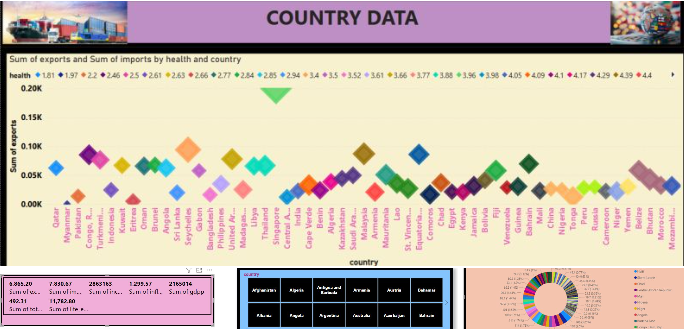

The page's visual inventory and layout, read from the dashboard file:
{"tool":"powerbi","page":{"name":"Page 1","canvas":[1280,720],"ordinal":0},"visuals":[{"type":"textbox","box":[0,1.4,1270.7,94.7],"z":0},{"type":"scatterChart","fields":{"Series":["Country-data.health"],"Y":["Sum(Country-data.exports)"],"Size":["Sum(Country-data.imports)"],"X":["Country-data.country"]},"box":[0,95.4,1280.3,432.9],"z":1000},{"type":"actionButton","box":[0,0,100,40],"z":3000},{"type":"donutChart","fields":{"Y":["Sum(Country-data.child_mort)"],"Category":["Country-data.country"]},"box":[0,509.9,376.6,210.3],"z":5000},{"type":"slicer","fields":{"Values":["Country-data.country"]},"box":[376.6,509.9,404.8,210.3],"z":7000},{"type":"image","box":[0,0,240.9,95.4],"z":8000},{"type":"image","box":[1125,0,145.5,95.4],"z":9000},{"type":"multiRowCard","fields":{"Values":["Sum(Country-data.exports)","Sum(Country-data.imports)","Sum(Country-data.income)","Sum(Country-data.inflation)","Sum(Country-data.gdpp)","Sum(Country-data.total_fer)","Sum(Country-data.life_expec)"]},"box":[781.4,519.7,498.9,200.5],"z":10000}]}

Visuals, with their boxes on the page's 1280x720 design canvas (x1, y1, x2, y2). These are canvas units, not pixel positions in the 684x329 screenshot, which may show the page scaled, cropped or inside an application window:
textbox: region(0, 1, 1271, 96)
scatterChart - Country-data.health x Sum(Country-data.exports): region(0, 95, 1280, 528)
actionButton: region(0, 0, 100, 40)
donutChart - Sum(Country-data.child_mort) x Country-data.country: region(0, 510, 377, 720)
slicer - Country-data.country: region(377, 510, 781, 720)
image: region(0, 0, 241, 95)
image: region(1125, 0, 1270, 95)
multiRowCard - Sum(Country-data.exports) x Sum(Country-data.imports): region(781, 520, 1280, 720)
